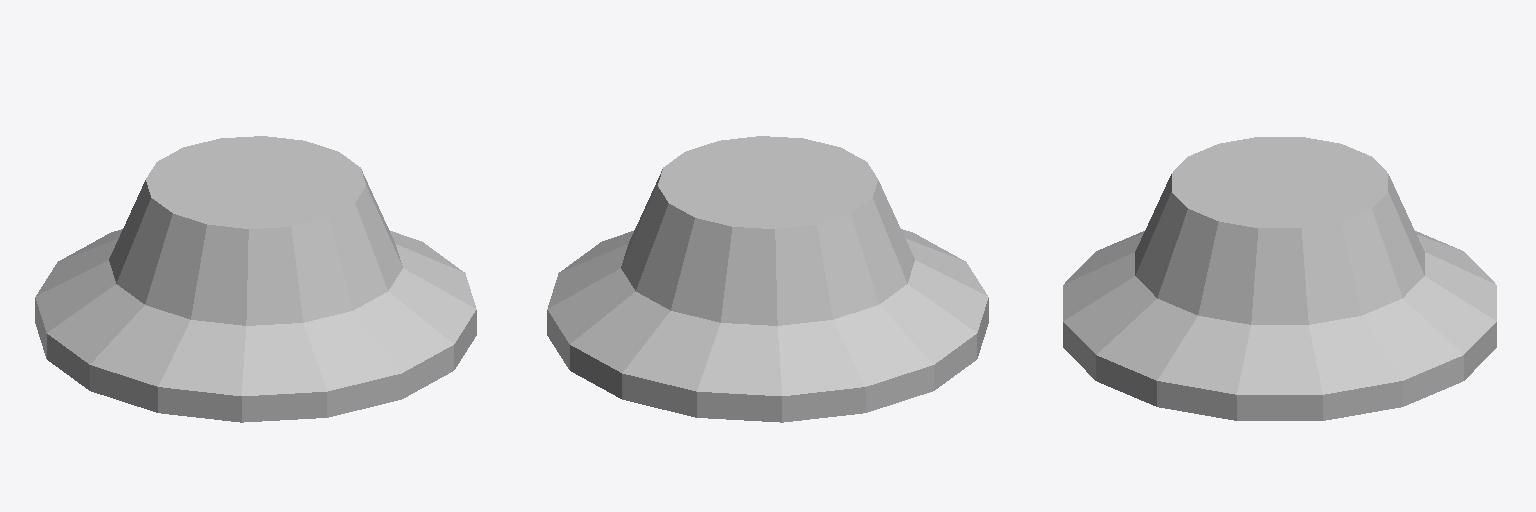
The model's file is Eridani_NodeSupport_1_Collider.obj.
The picture shows the model from 3 angles: view 1: azimuth 30°, elevation 25°; view 2: azimuth 150°, elevation 25°; view 3: azimuth 270°, elevation 25°; orthographic projection.
Visible parts, largest first — view 1: Eridani_NodeSupport_1_Collider2, Eridani_NodeSupport_1_Collider1; view 2: Eridani_NodeSupport_1_Collider2, Eridani_NodeSupport_1_Collider1; view 3: Eridani_NodeSupport_1_Collider2, Eridani_NodeSupport_1_Collider1.
Part boxes in pixels (left/top/right/bottom): Eridani_NodeSupport_1_Collider2: left=35, top=229, right=476, bottom=422; Eridani_NodeSupport_1_Collider1: left=109, top=136, right=402, bottom=325; Eridani_NodeSupport_1_Collider2: left=547, top=229, right=988, bottom=422; Eridani_NodeSupport_1_Collider1: left=621, top=136, right=914, bottom=325; Eridani_NodeSupport_1_Collider2: left=1063, top=231, right=1496, bottom=420; Eridani_NodeSupport_1_Collider1: left=1135, top=137, right=1424, bottom=324.
Bounding box in the file's own units: 1.88 × 0.7 × 1.88.